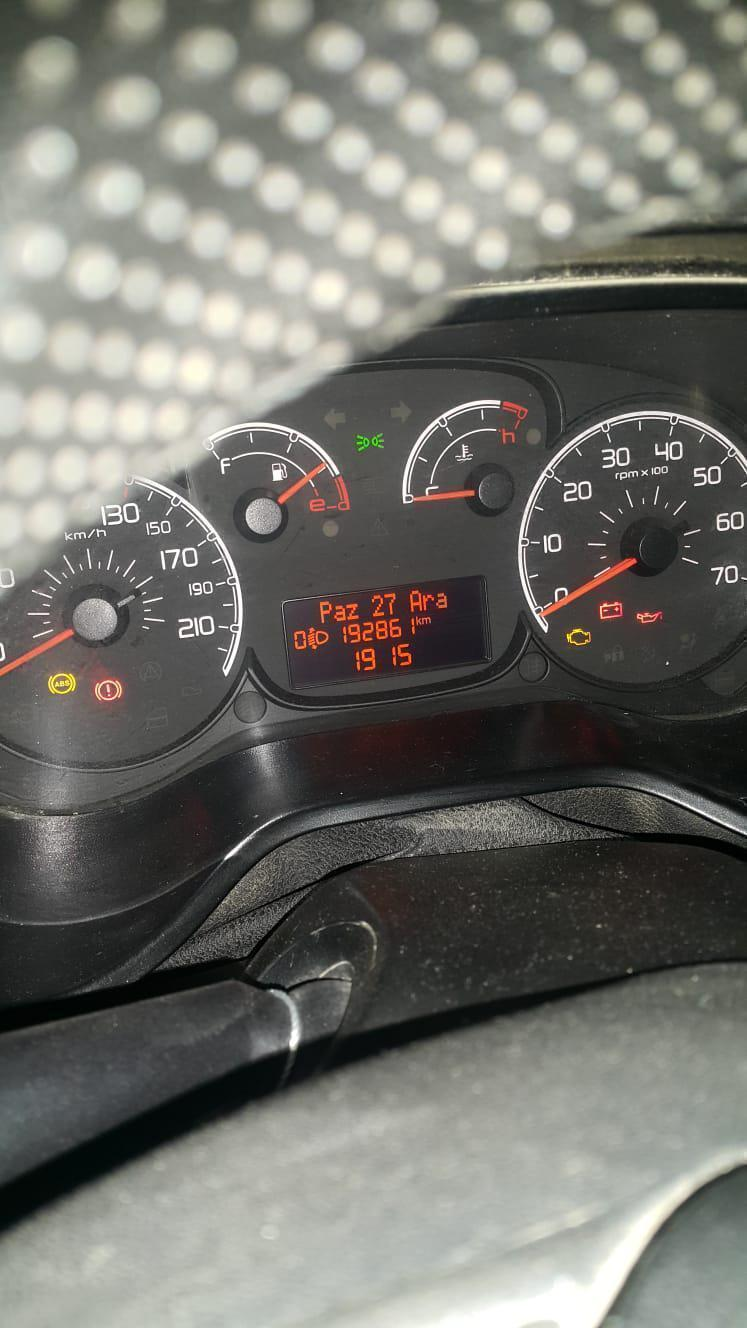0: (292, 628, 307, 649)
1: (390, 645, 397, 669), (354, 649, 361, 673), (340, 624, 348, 644), (410, 617, 415, 636)
2: (371, 593, 384, 617), (361, 621, 374, 642)
5: (398, 642, 413, 666)
6: (389, 617, 402, 638)
7: (384, 591, 398, 615)
8: (376, 619, 388, 640)
9: (361, 647, 377, 672), (349, 622, 360, 644)
X: (408, 588, 423, 613), (317, 600, 332, 624), (422, 592, 435, 611), (436, 592, 449, 610), (346, 603, 359, 620), (333, 604, 346, 621), (421, 616, 432, 624), (414, 615, 422, 625)
odometer: (276, 572, 495, 693)
